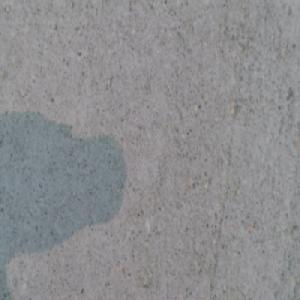Washer: (144, 286, 168, 300)
